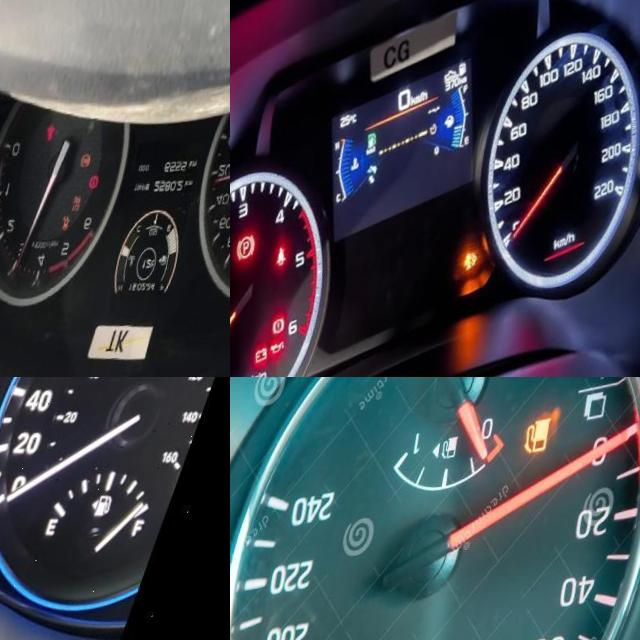Seat Belt: (290, 251, 304, 272), (56, 128, 67, 148)
